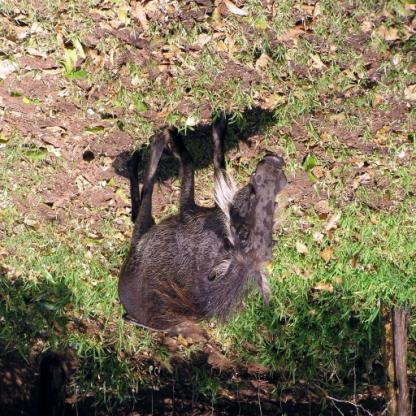boar: (107, 129, 310, 350)
